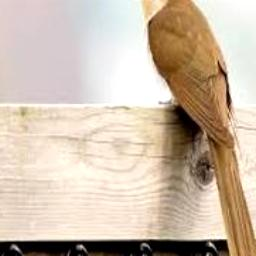Cuckoo: (119, 0, 256, 256)
